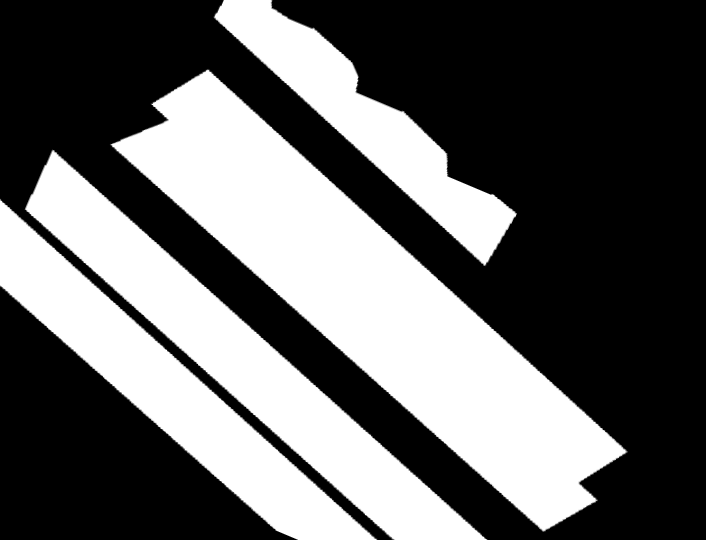parkingspot: (111, 70, 627, 531), (25, 150, 487, 540), (0, 199, 377, 540), (214, 0, 517, 266)
